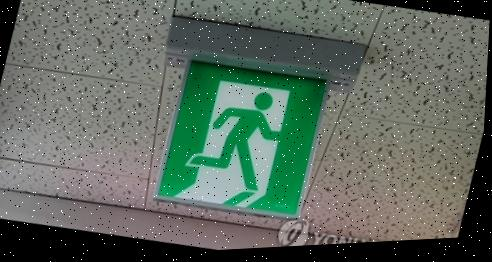emergency_exit: (152, 52, 329, 221)
